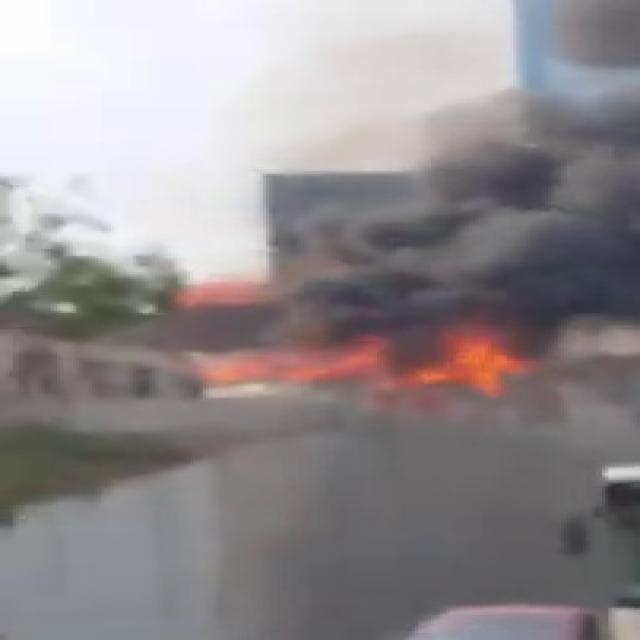Fire: (222, 340, 534, 394), (181, 278, 272, 307)
Smoke: (306, 89, 621, 331), (263, 407, 598, 606)
